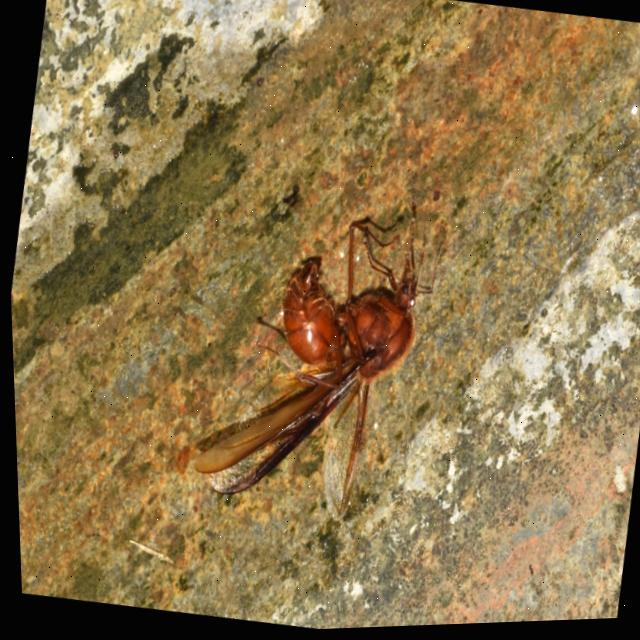Alive-Male-Alate: (176, 190, 454, 539)
